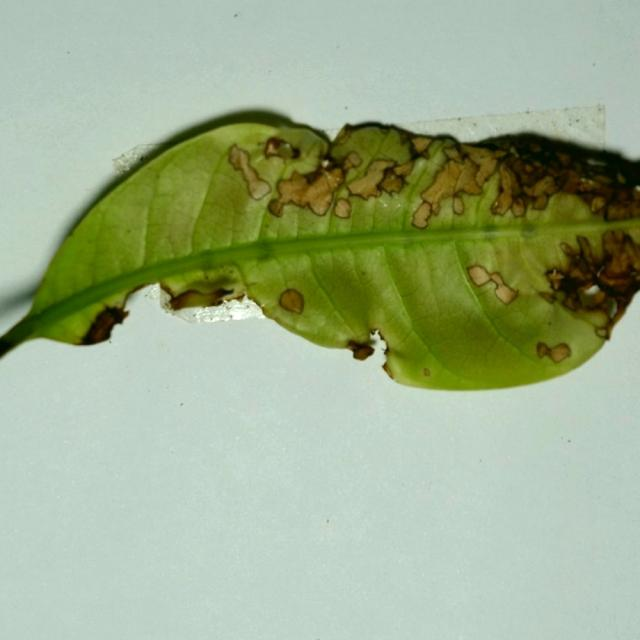Anthracnose: (270, 162, 345, 218), (228, 144, 272, 202), (467, 264, 520, 305), (347, 158, 396, 199), (83, 305, 129, 344), (540, 149, 586, 188), (462, 146, 498, 176), (278, 287, 307, 318), (535, 340, 571, 364), (491, 188, 515, 217), (411, 201, 433, 228), (264, 137, 292, 158), (579, 284, 604, 307), (467, 265, 492, 287), (347, 340, 374, 360), (228, 144, 249, 169), (545, 268, 565, 290), (410, 135, 434, 153), (341, 151, 362, 171), (442, 145, 464, 162), (333, 127, 352, 146), (589, 195, 607, 214), (531, 193, 549, 211), (560, 242, 579, 259), (605, 297, 618, 319), (538, 291, 557, 305), (536, 341, 550, 359), (452, 194, 464, 215), (382, 362, 395, 378), (595, 327, 609, 340), (490, 201, 501, 214), (423, 367, 432, 377)
Mango: (0, 110, 639, 394)
